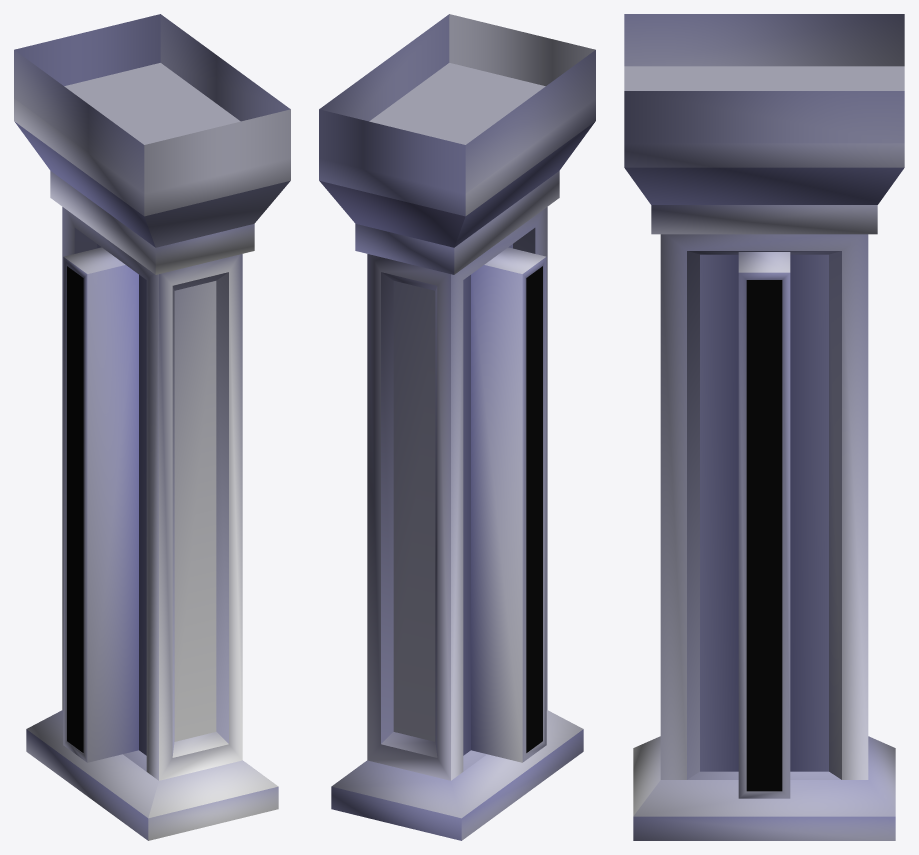
Rendered from LaserPillarInterior.gltf.
The picture shows the model from 3 angles, left to right: view 1: azimuth 30°, elevation 25°; view 2: azimuth 150°, elevation 25°; view 3: azimuth 270°, elevation 25°; orthographic projection. The views are drawn at different scales.
Visible parts, largest first — view 1: LaserPillarInteriorMesh; view 2: LaserPillarInteriorMesh; view 3: LaserPillarInteriorMesh.
Part boxes in pixels (x1,y1,x2,y2): LaserPillarInteriorMesh: [14, 14, 290, 840]; LaserPillarInteriorMesh: [319, 14, 595, 840]; LaserPillarInteriorMesh: [624, 14, 904, 840].
Size of the model in its own units: 1.45 by 6.3 by 2.12.
